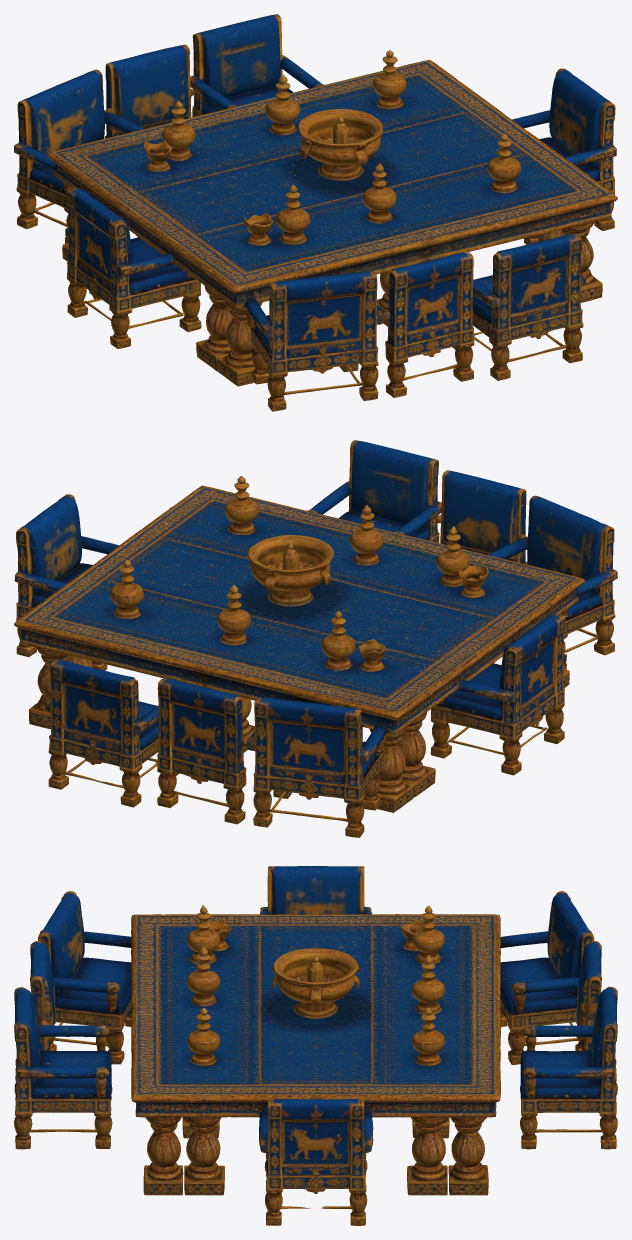
The model's file is اجتماعات .glb.
3 views of the same model, one above another, from view 1: azimuth 30°, elevation 25°; view 2: azimuth 150°, elevation 25°; view 3: azimuth 270°, elevation 25° (orthographic).
Visible parts, largest first — view 1: world; view 2: world; view 3: world.
Part boxes in pixels (box(x1,y1,x2,y2)): world: box(14, 14, 617, 411); world: box(14, 440, 617, 837); world: box(14, 866, 617, 1225).
Bounding box in the file's own units: 0.9401 × 0.2872 × 0.9998.
Materials: 1 (1 with a texture image).
